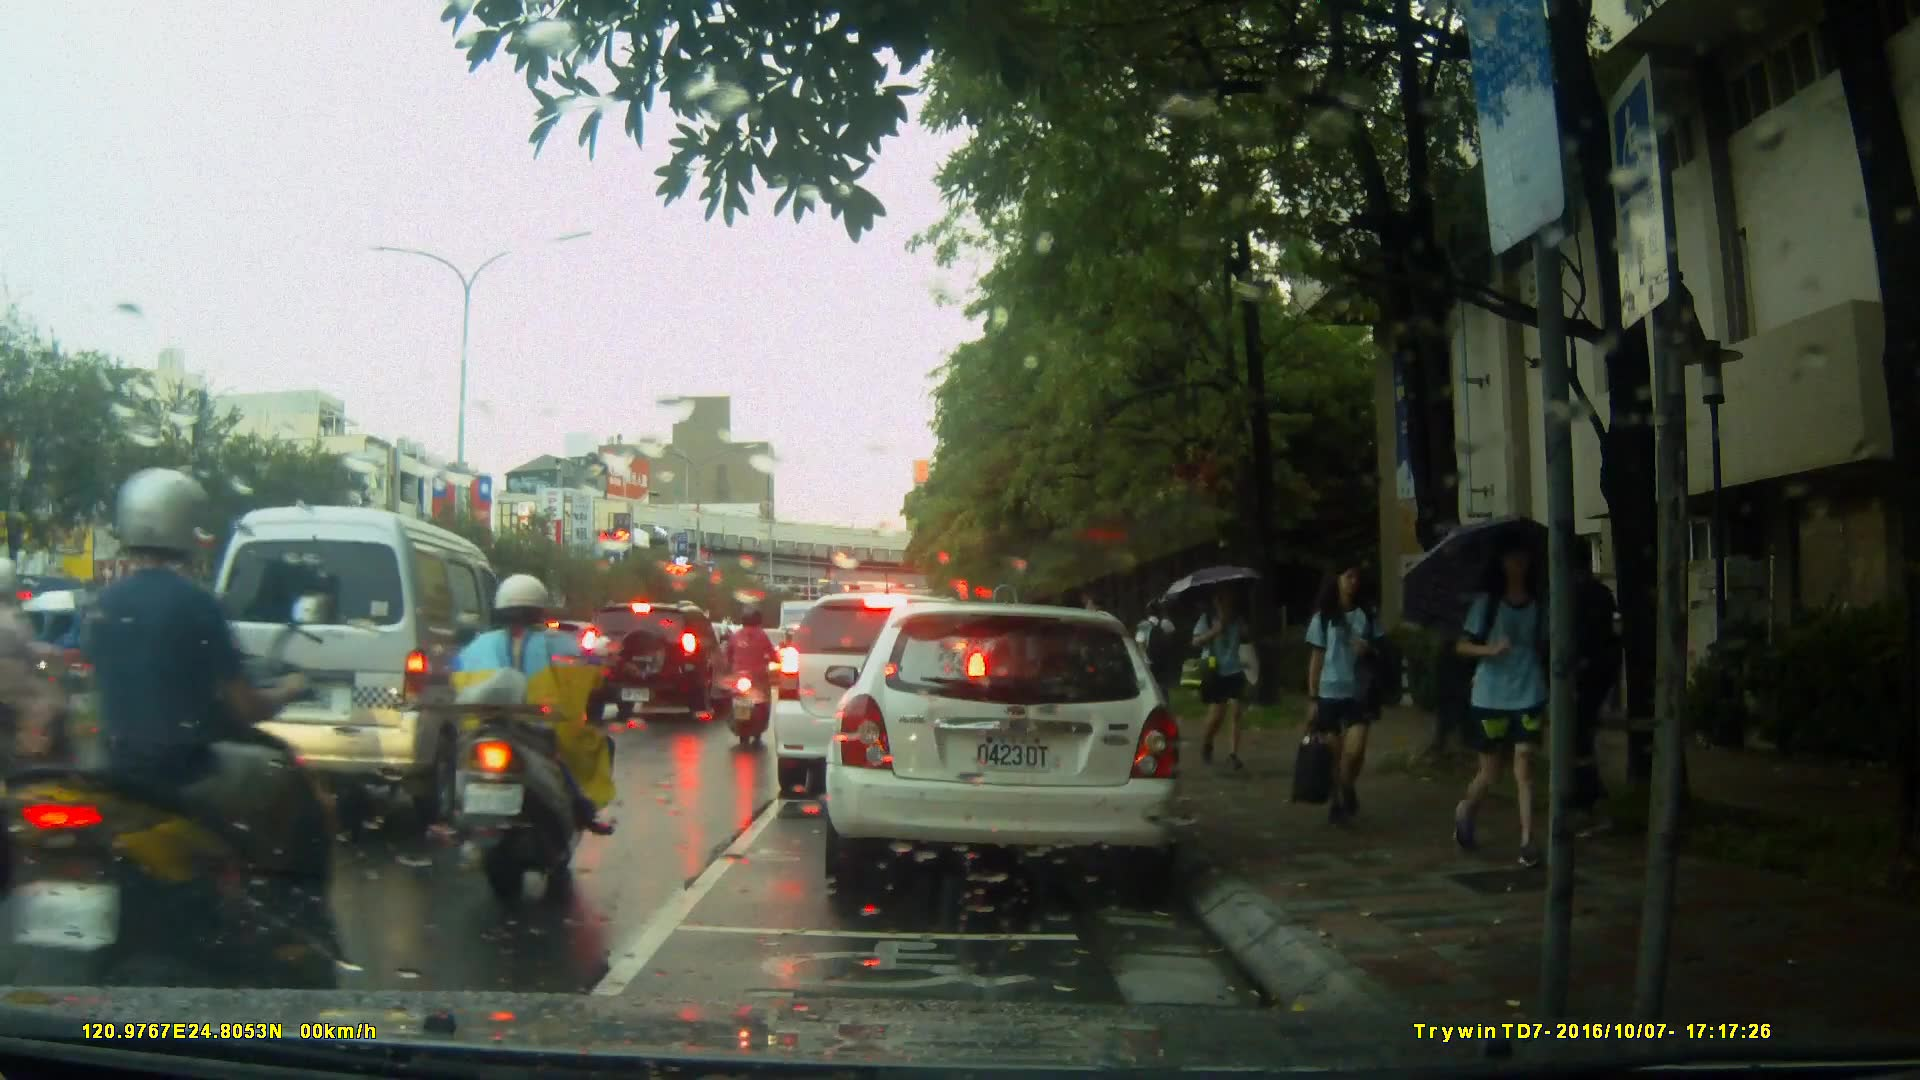pedestrian: (1426, 529, 1567, 874), (1532, 530, 1641, 856), (1293, 556, 1390, 841), (1180, 578, 1252, 781)
rider: (32, 468, 334, 1048), (442, 572, 616, 911), (720, 602, 780, 745)
vehicle: (815, 593, 1204, 909), (186, 503, 517, 839), (770, 590, 994, 802), (577, 603, 737, 726)
